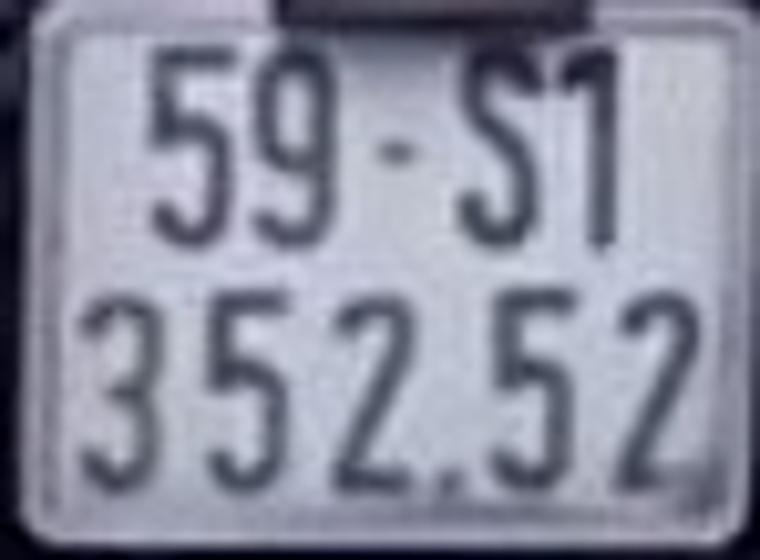.: (431, 454, 473, 503)
1: (563, 44, 625, 252)
2: (326, 275, 420, 501), (614, 285, 712, 496)
3: (71, 287, 171, 491)
5: (482, 288, 587, 499), (194, 280, 295, 491), (137, 35, 237, 248)
9: (250, 42, 347, 251), (370, 132, 429, 172)
S: (442, 42, 546, 251)
